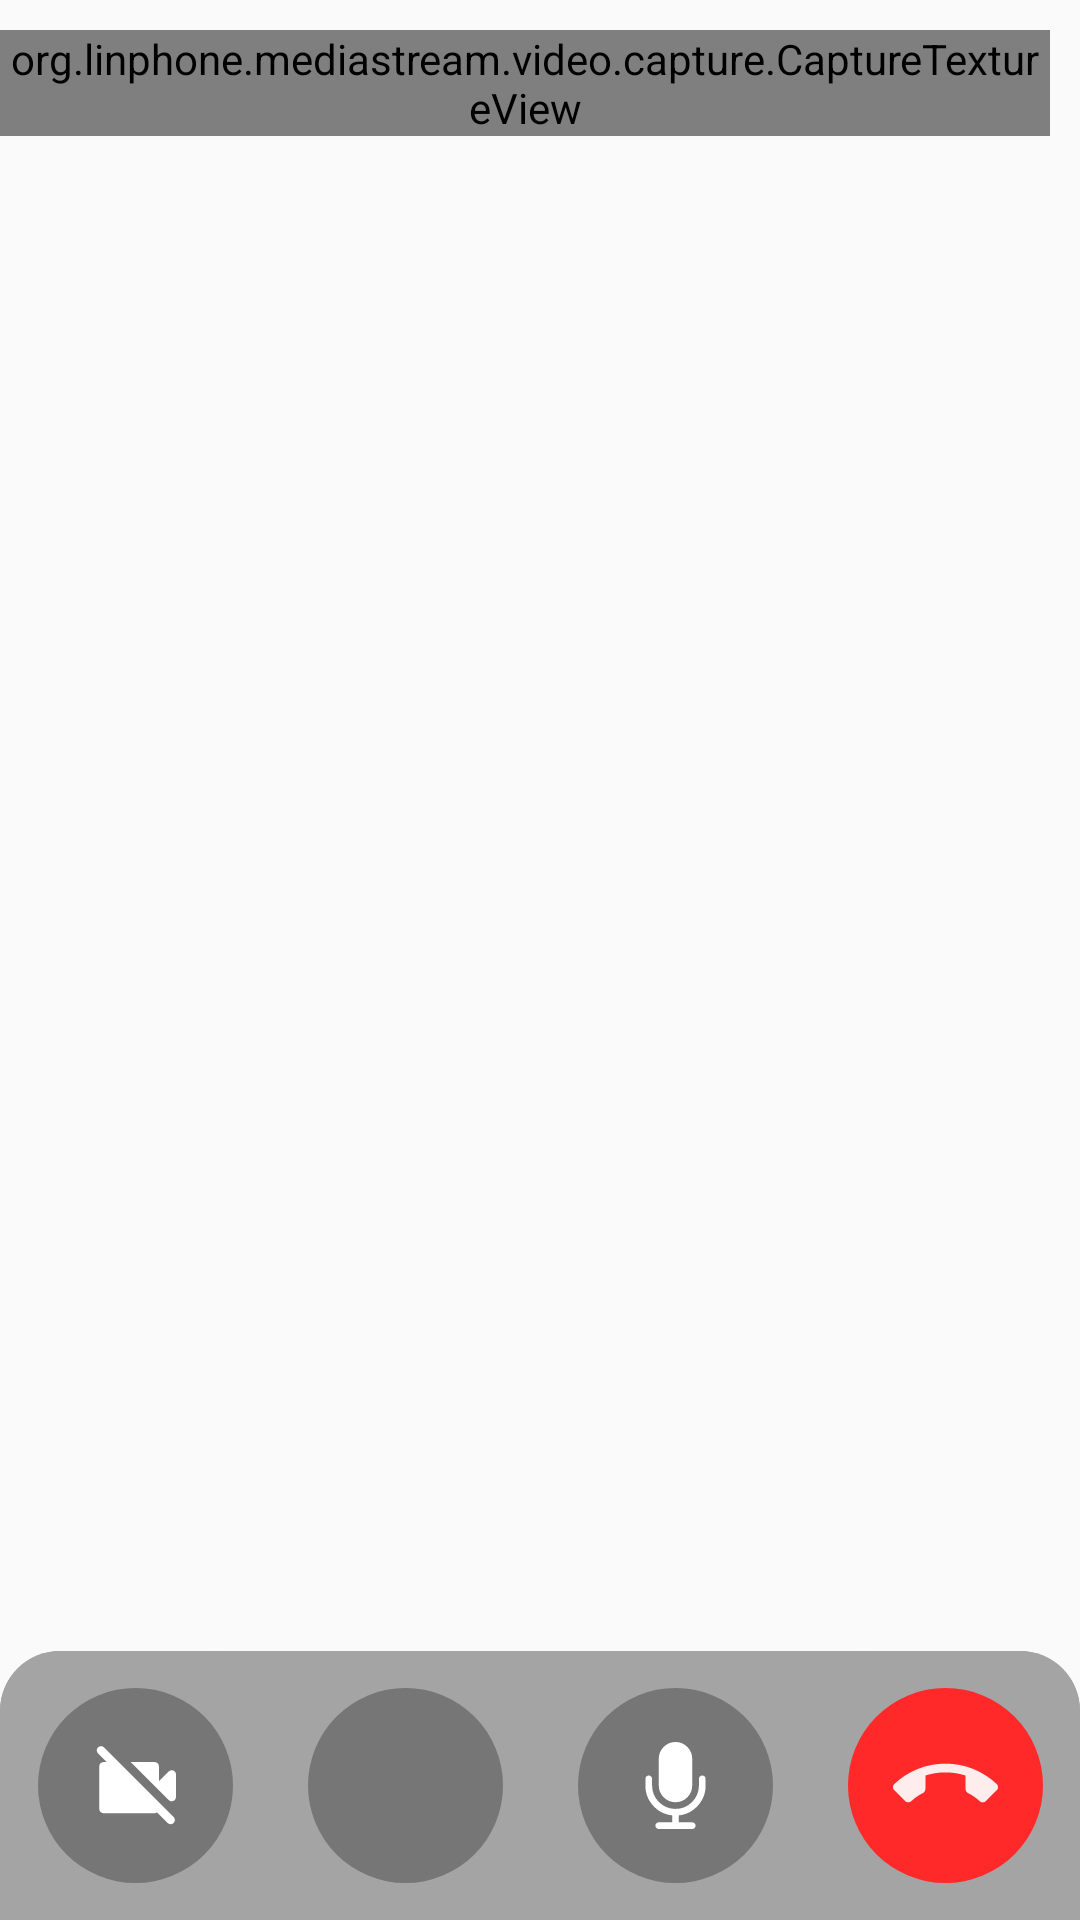

Icons on this 1080px x 1920px Android screen, each with the point to tap as (x,y):
call end: (945,1785)
camoff: (135,1785)
unmute: (675,1785)
